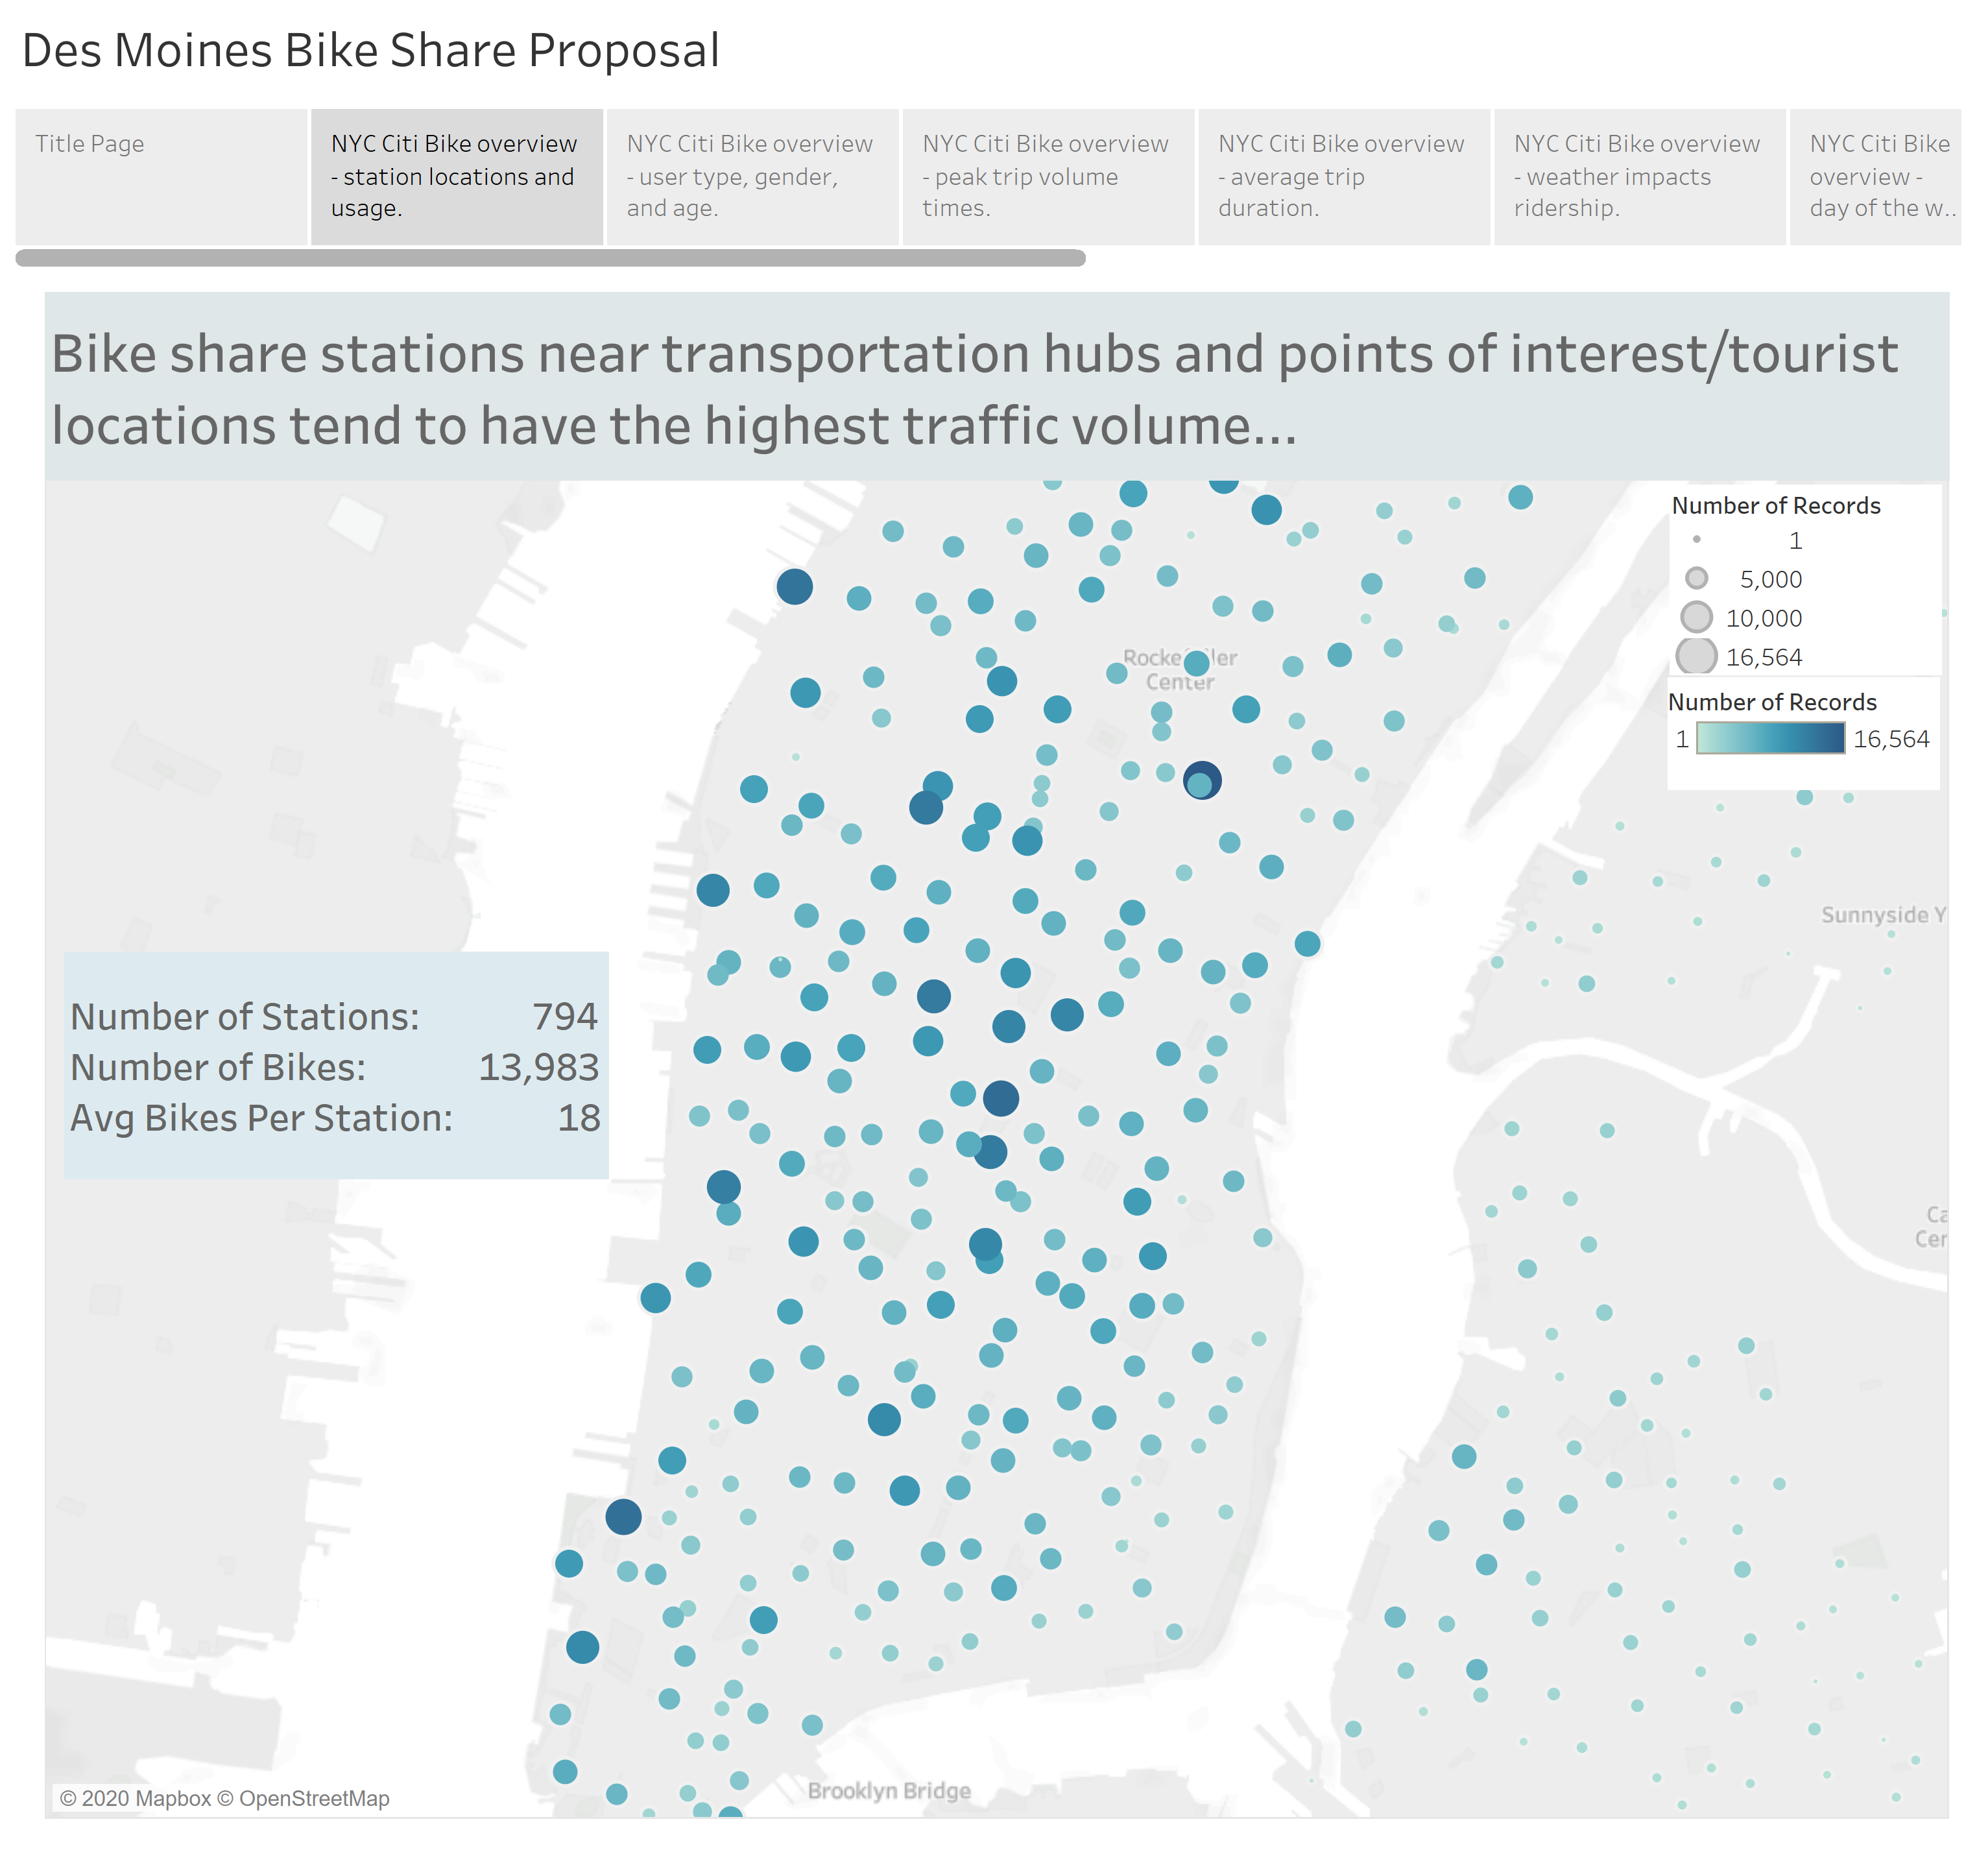

What the dashboard file says about the page in this screenshot:
{"tool":"tableau","page":{"name":"NYC Citi Bike Aug 2019 Stations","canvas":[1000,800],"ordinal":5},"visuals":[{"type":"text","box":[15,8,979,97]},{"type":"worksheet","title":"Top Starting Locations","mark":"Automatic","rows":["start station latitude"],"cols":["start station longitude"],"box":[15,104,979,689]},{"type":"legend","title":"Top Starting Locations","param":"[federated.0xsj1ae095y9gc1c0hg1e02rlzi4].[sum:Number of Records:qk]","box":[850,107,140,98]},{"type":"legend","title":"Top Starting Locations","param":"[federated.0xsj1ae095y9gc1c0hg1e02rlzi4].[sum:Number of Records:qk]","box":[849,206,140,76]},{"type":"text","box":[25,347,280,117]}]}

Visuals, with their boxes on the page's 1000x800 design canvas (x1, y1, x2, y2). These are canvas units, not pixel positions in the 1977x1876 screenshot, which may show the page scaled, cropped or inside an application window:
text: [15,8,994,105]
"Top Starting Locations" worksheet: [15,104,994,793]
"Top Starting Locations" legend: [850,107,990,205]
"Top Starting Locations" legend: [849,206,989,282]
text: [25,347,305,464]
